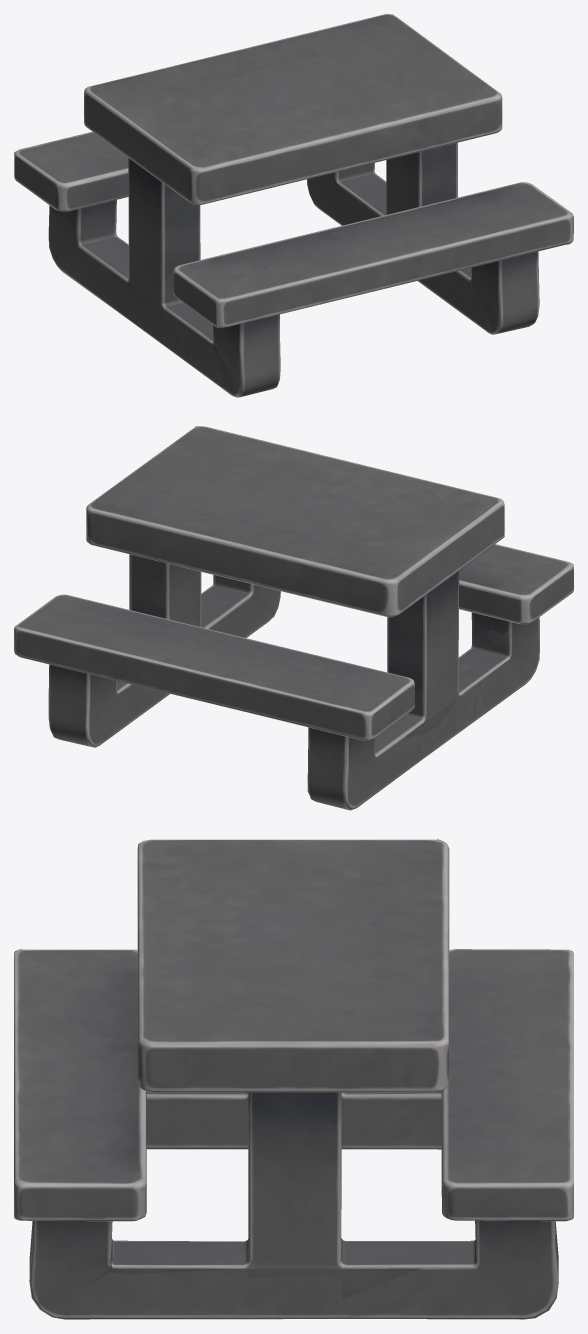
File: picnic-table.glb
3 views of the same model, one above another, from view 1: azimuth 30°, elevation 25°; view 2: azimuth 150°, elevation 25°; view 3: azimuth 270°, elevation 25° (orthographic). The views are drawn at different scales.
Parts seen in each view (by area): view 1: geometry_0; view 2: geometry_0; view 3: geometry_0.
Part boxes in pixels (x1,y1,x2,y2): geometry_0: (14,14,573,397); geometry_0: (14,426,573,810); geometry_0: (14,839,573,1319).
Bounding box in the file's own units: 1 × 0.5563 × 1.
1 material, 1 textured.
